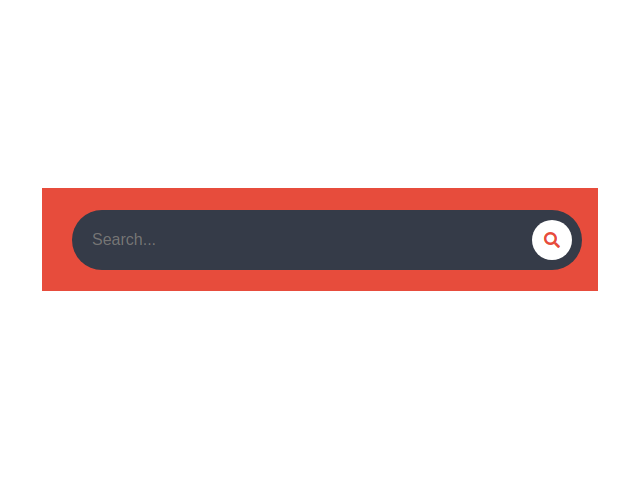search_box: (73, 210, 582, 267)
